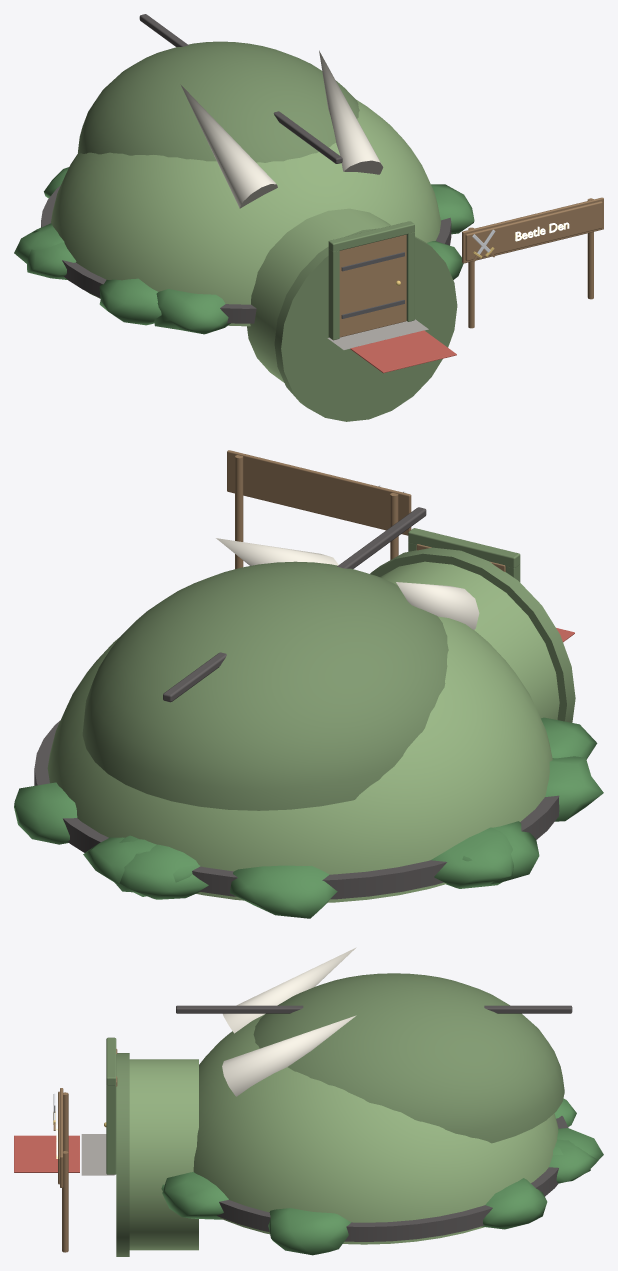
Rendered from beetle_den.fbx.
3 views of the same model, one above another, from view 1: azimuth 30°, elevation 25°; view 2: azimuth 150°, elevation 25°; view 3: azimuth 270°, elevation 25° (orthographic). The views are drawn at different scales.
Visible parts, largest first — view 1: beetle_den; view 2: beetle_den; view 3: beetle_den.
Boxes of the visible parts, bbox=[...] form: beetle_den: bbox=[14, 14, 603, 421]; beetle_den: bbox=[14, 450, 603, 918]; beetle_den: bbox=[14, 947, 603, 1256].
Size of the model in its own units: 14.23 by 8.9 by 17.86.
